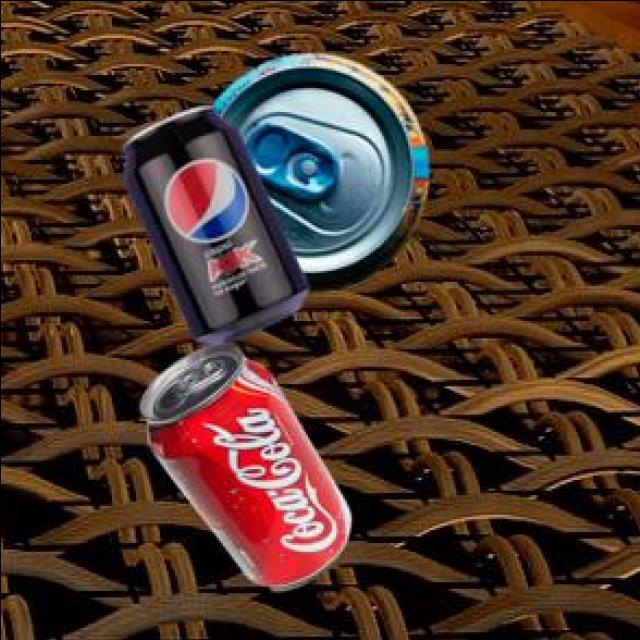logam: (143, 347, 352, 593), (214, 56, 430, 293), (127, 108, 310, 347)
